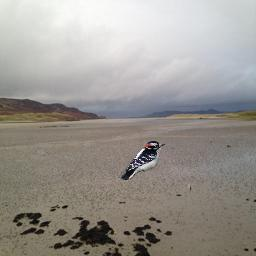Woodpecker: (119, 141, 165, 180)
